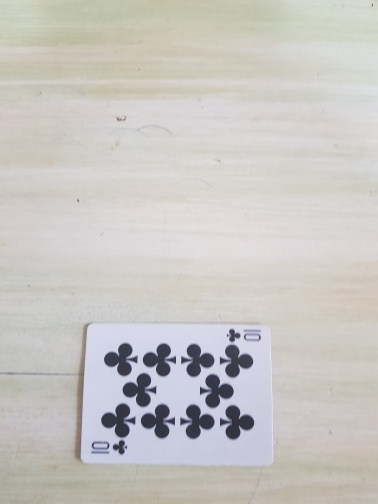ten: (78, 323, 276, 467)
